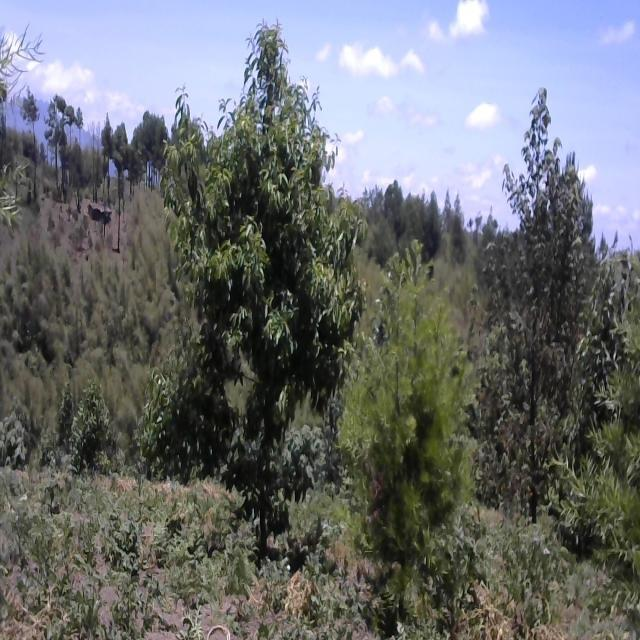Hass Avocado: (166, 15, 357, 526)
Podocarpus falcatus: (343, 256, 486, 640), (566, 337, 640, 601), (0, 21, 51, 233)
cedrus: (134, 99, 164, 189), (94, 100, 116, 214), (445, 188, 474, 267)
other: (478, 78, 605, 503)
